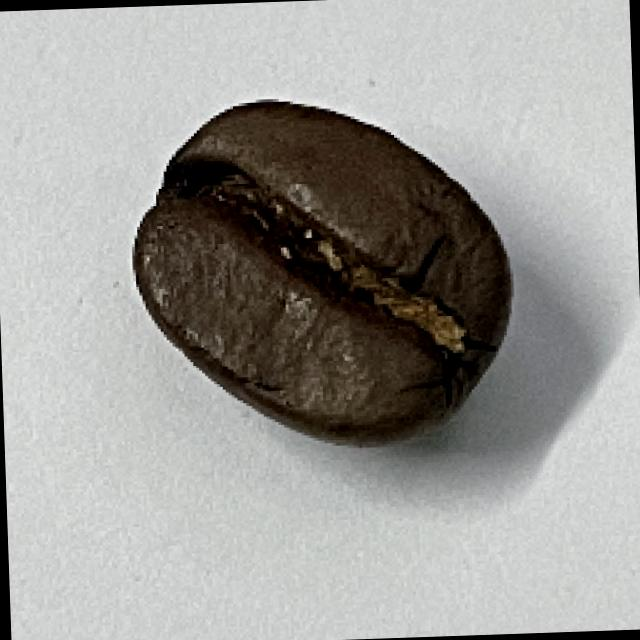bean: (122, 89, 519, 452)
